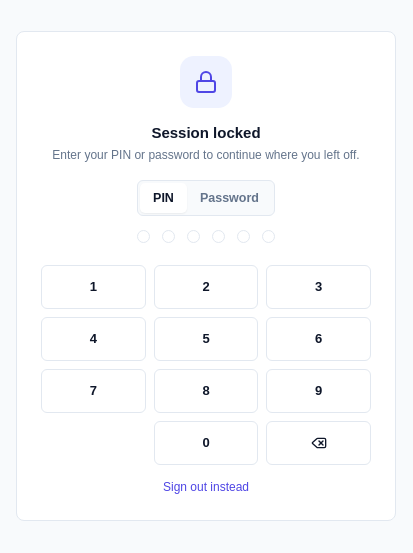
Test: Locked — resuming the session › shows the invalid-credential message on a wrong PIN
Click the button "0" at (206, 443), box [154,421,258,465]
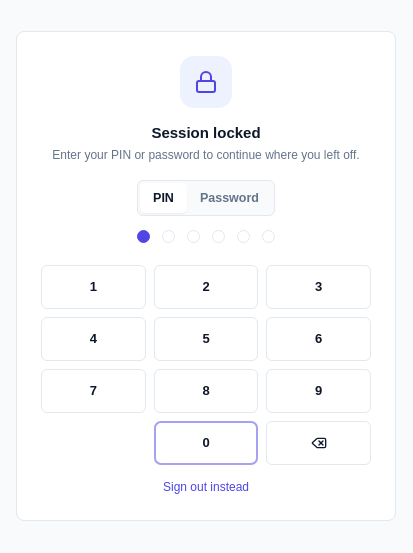
Click the button "0" at (206, 443), box [154,421,258,465]
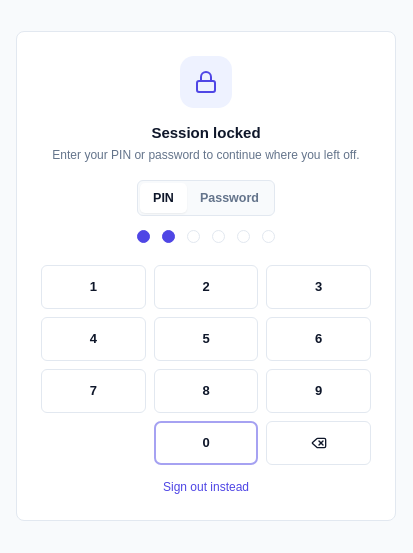
Click the button "0" at (206, 443), box [154,421,258,465]
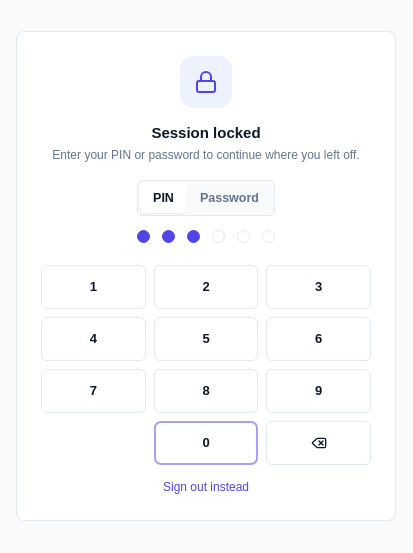
Click the button "0" at (206, 443), box [154,421,258,465]
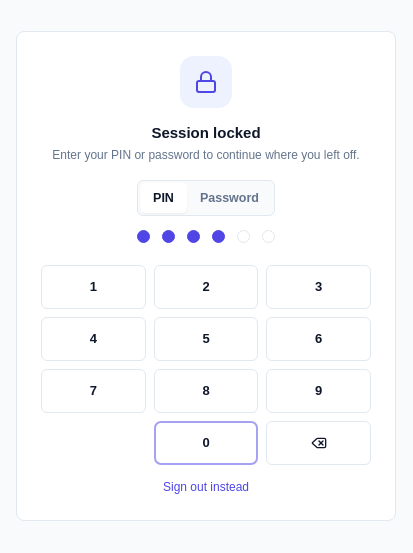
Click the button "0" at (206, 443), box [154,421,258,465]
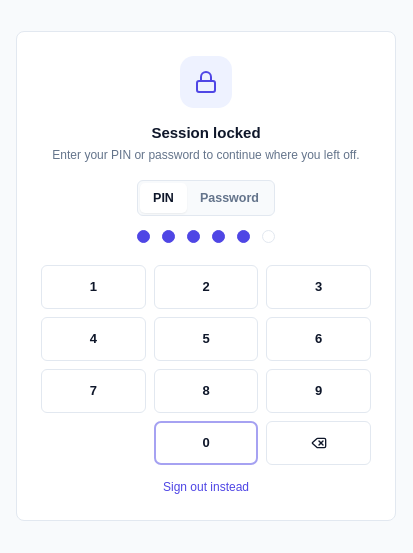
Click the button "0" at (206, 443), box [154,421,258,465]
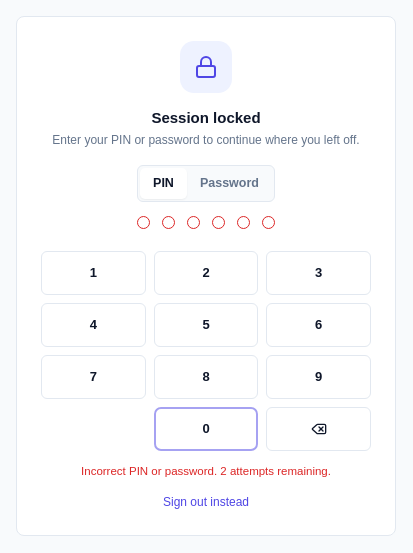
Now the text "Incorrect PIN or password. 2 attempts remaining." is shown, box [81,465,331,477]
